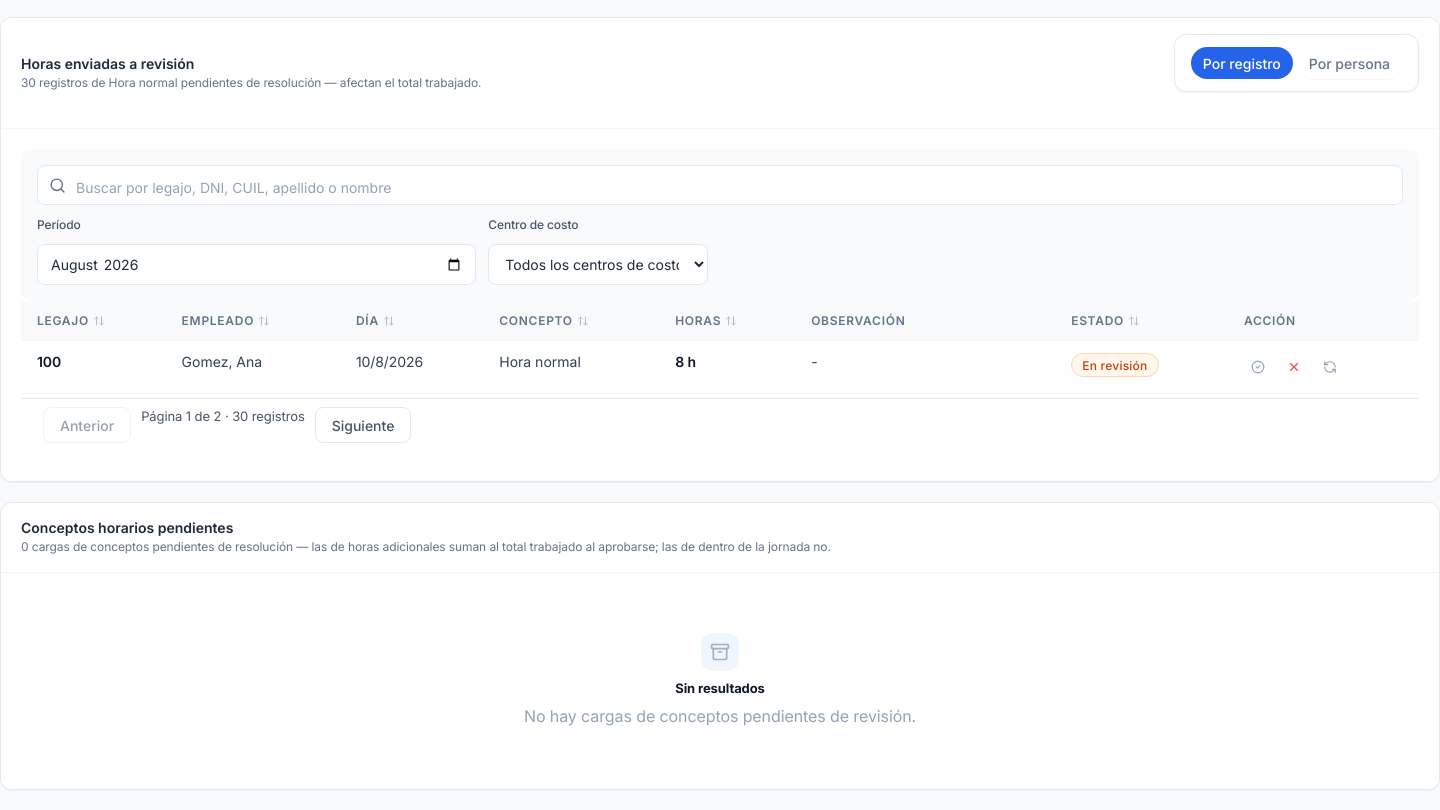
HoursPage — Etapa 9F (separación de efectos: sin refetch innecesario) › cambiar de página de revisión sólo vuelve a pedir list — no getSummary ni pendingApiService.getAll
This screenshot has width=1440, height=810.
(page scrolled)
Expected: the text "100" is shown, [37, 354, 61, 370]
Click the button "Siguiente": (363,426) [315, 408, 411, 444]
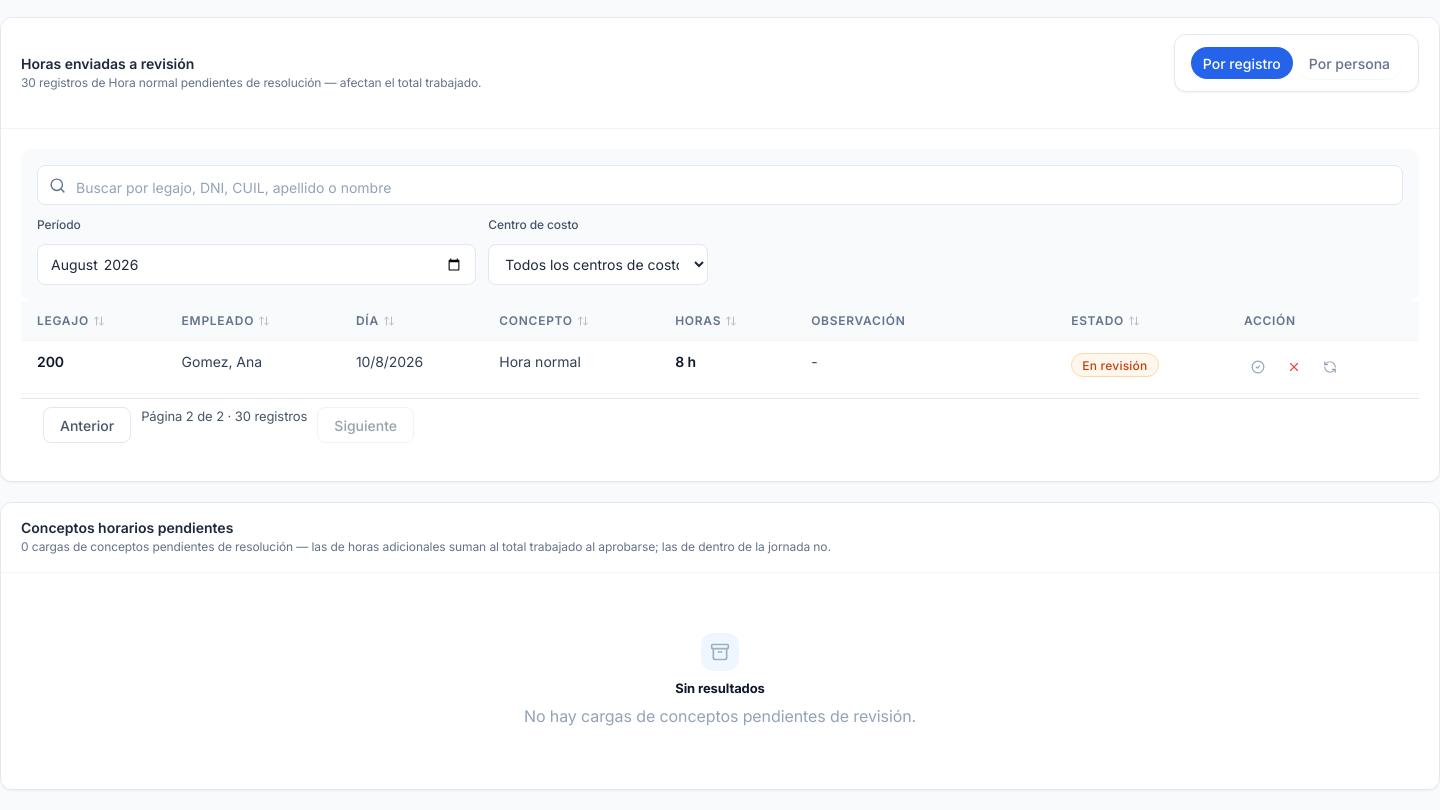
Now the text "200" is shown, box [37, 354, 64, 370]
